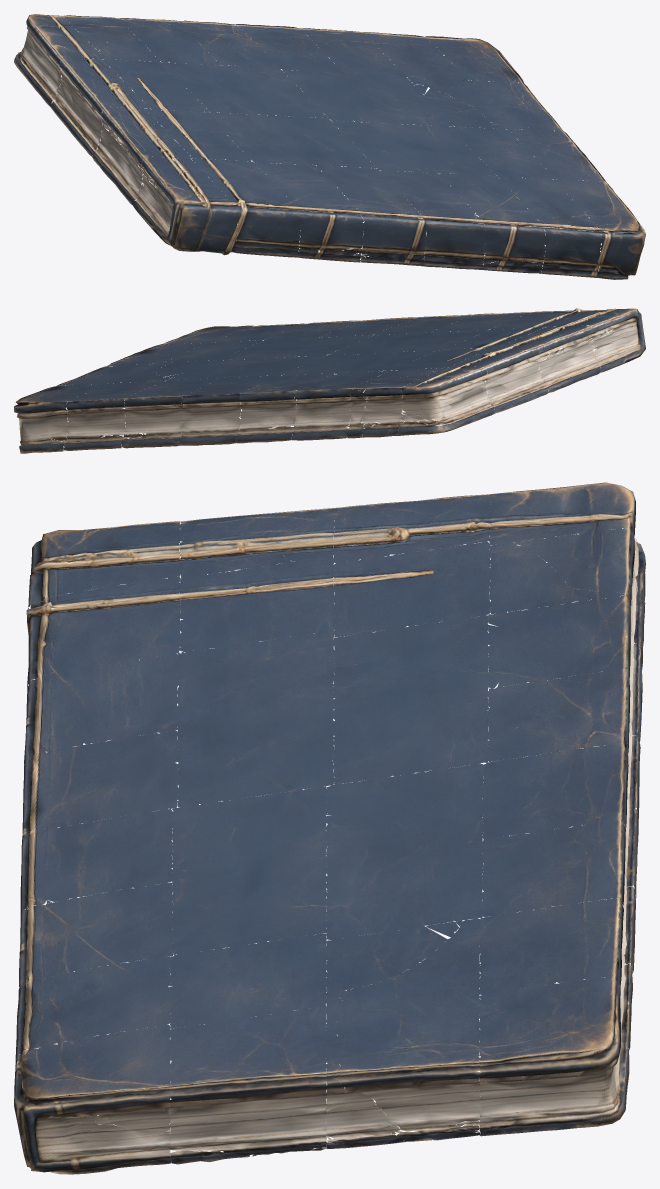
Rendered from hi3d-book.glb.
The picture shows the model from 3 angles, top to bottom: view 1: azimuth 30°, elevation 25°; view 2: azimuth 150°, elevation 25°; view 3: azimuth 270°, elevation 25°; orthographic projection. The views are drawn at different scales.
Visible parts, largest first — view 1: book; view 2: book; view 3: book.
Part boxes in pixels (x1=…): book: x1=14, y1=14, x2=645, y2=279; book: x1=14, y1=308, x2=645, y2=453; book: x1=14, y1=482, x2=645, y2=1174.
Size of the model in its own units: 0.361 by 0.1602 by 0.2502.
Materials: 1 (1 with a texture image).
